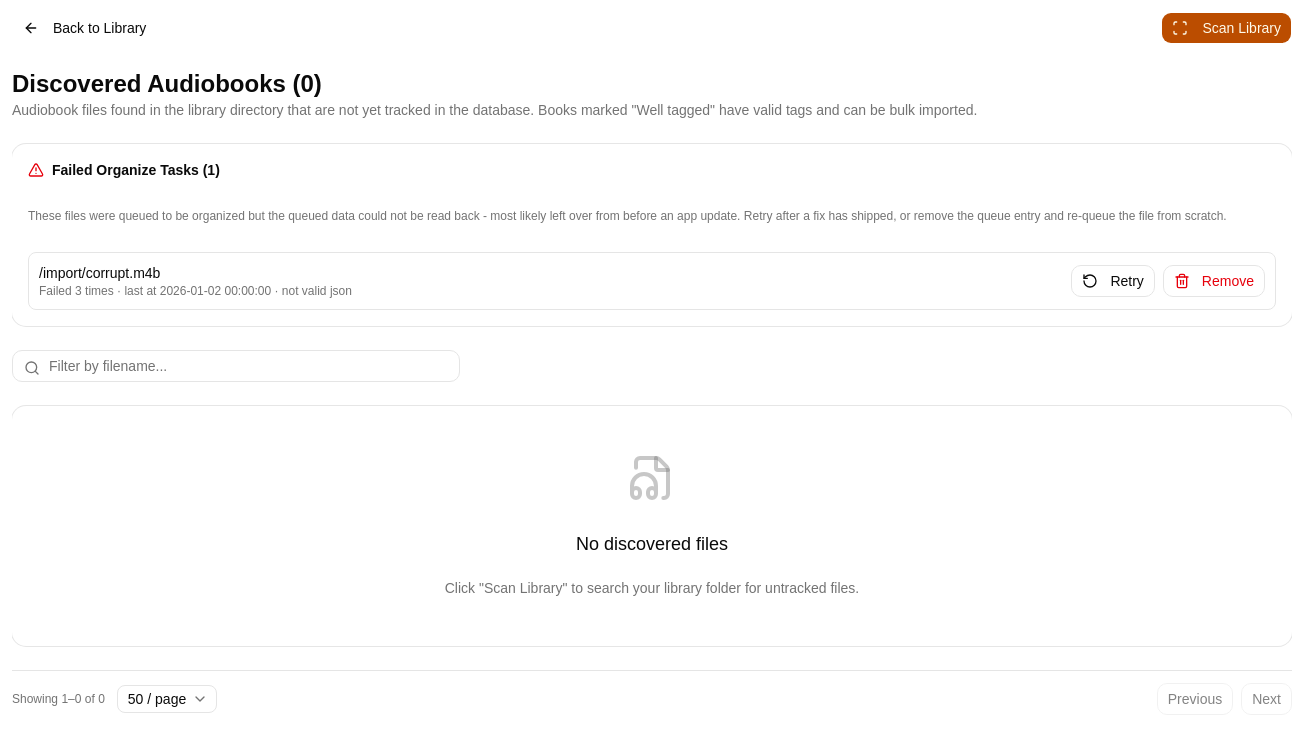
Scenario: DiscoveredAudiobooks › Failed Organize Tasks › retries a failed task and refreshes the list
Click the button "Retry" at (1113, 281), box [1071,265,1155,297]
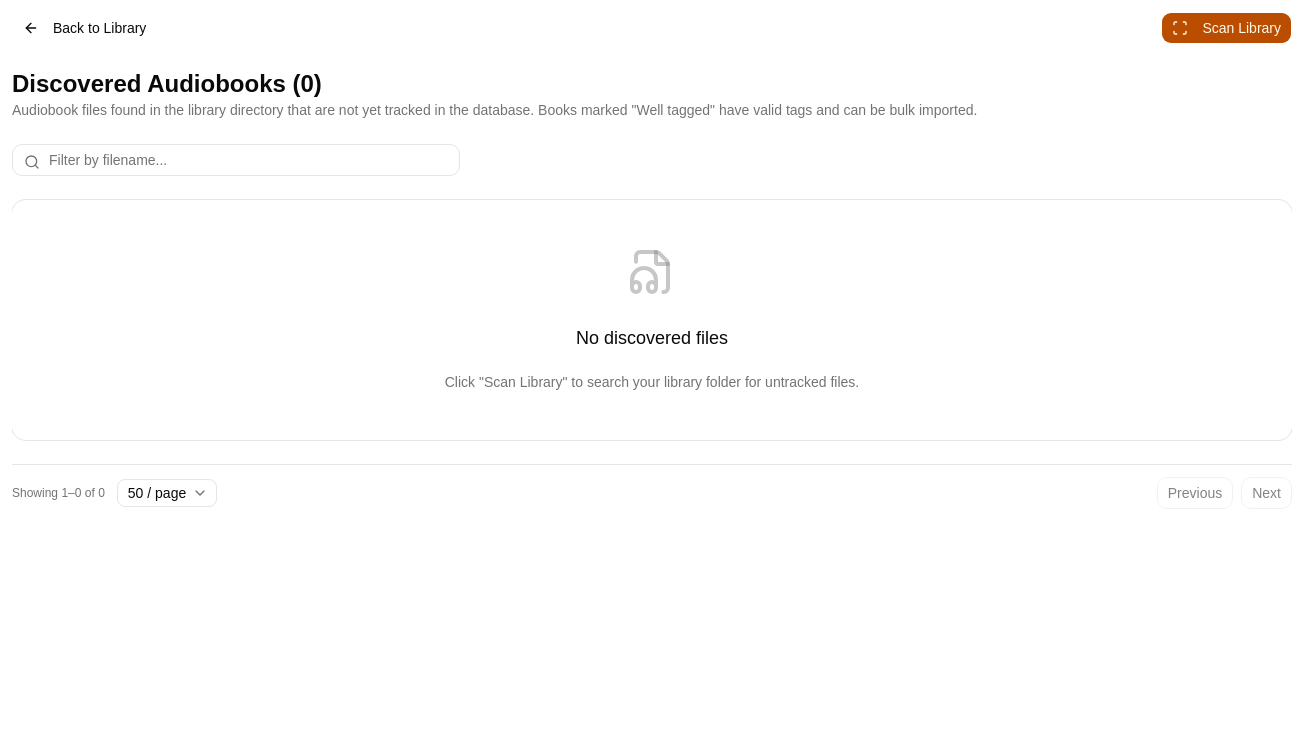
Expected: the heading "Failed Organize Tasks" is gone
